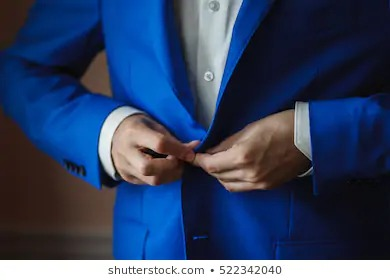F_M_suit jacket: (2, 1, 390, 257)
